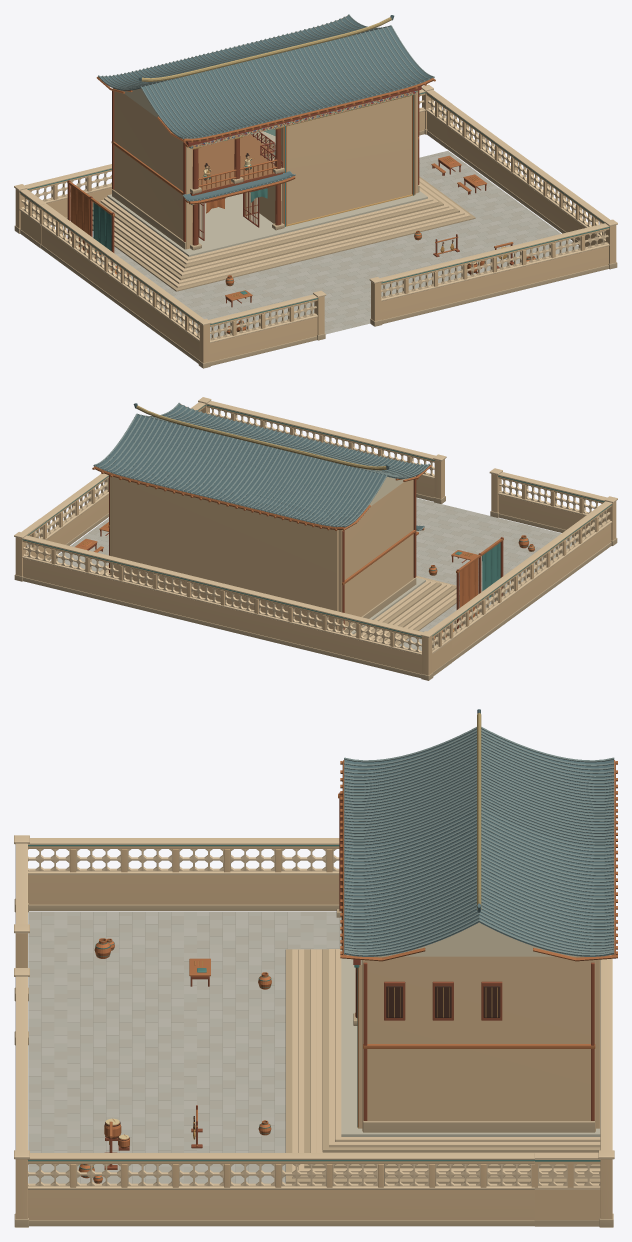
Rendered from music-pavilion.glb.
3 views of the same model, one above another, from view 1: azimuth 30°, elevation 25°; view 2: azimuth 150°, elevation 25°; view 3: azimuth 270°, elevation 25° (orthographic). The views are drawn at different scales.
Visible parts, largest first — view 1: architecture--plaster.001, court-paving--court-limestone-0, courtyard-enclosure--plaster.001, main-roof--tile.001, courtyard-enclosure--stone-light.001, main-roof--tile-edge.001, terraced-foundation--stone-light, terraced-foundation--stone, terraced-foundation--music-decor-stone, courtyard-enclosure--stone, music-interior-floor--music-decor-wood, porch--wood.001 (+17 smaller); view 2: architecture--plaster.001, courtyard-enclosure--plaster.001, courtyard-enclosure--stone-light.001, main-roof--tile.001, main-roof--tile-edge.001, court-paving--court-limestone-0, courtyard-enclosure--stone, terraced-foundation--stone-light, courtyard-enclosure--teal.001, main-roof--wood-light.001, main-roof--music-decor-ochre, terraced-foundation--stone (+5 smaller); view 3: court-paving--court-limestone-0, main-roof--tile-edge.001, architecture--plaster.001, courtyard-enclosure--plaster.001, main-roof--tile.001, courtyard-enclosure--stone-light.001, terraced-foundation--stone-light, terraced-foundation--stone, courtyard-enclosure--stone, court-paving--court-fine-joints, terraced-foundation--music-decor-stone, mural-frame--stone.001 (+9 smaller).
Part boxes in pixels (x1,y1,x2,y2): architecture--plaster.001: (113,88,417,249); court-paving--court-limestone-0: (93,151,578,338); courtyard-enclosure--plaster.001: (15,92,616,363); main-roof--tile.001: (99,15,432,138); courtyard-enclosure--stone-light.001: (14,84,617,343); main-roof--tile-edge.001: (98,14,434,139); terraced-foundation--stone-light: (92,178,470,287); terraced-foundation--stone: (92,176,475,291); terraced-foundation--music-decor-stone: (107,157,427,256); courtyard-enclosure--stone: (14,129,617,368); music-interior-floor--music-decor-wood: (192,134,275,190); porch--wood.001: (190,128,282,245); architecture--plaster.001: (110,476,415,631); courtyard-enclosure--plaster.001: (15,404,616,675); courtyard-enclosure--stone-light.001: (14,397,617,655); main-roof--tile.001: (95,403,429,526); main-roof--tile-edge.001: (93,402,430,527); court-paving--court-limestone-0: (57,498,575,650); courtyard-enclosure--stone: (14,493,617,680); terraced-foundation--stone-light: (100,566,459,643); courtyard-enclosure--teal.001: (22,404,612,637); main-roof--wood-light.001: (92,404,431,530); main-roof--music-decor-ochre: (136,405,386,470); terraced-foundation--stone: (99,564,459,645); court-paving--court-limestone-0: (28,912,341,1183); main-roof--tile-edge.001: (344,727,614,955); architecture--plaster.001: (358,956,599,1131); courtyard-enclosure--plaster.001: (15,846,612,1219); main-roof--tile.001: (344,709,613,956); courtyard-enclosure--stone-light.001: (14,835,614,1189); terraced-foundation--stone-light: (292,949,600,1178); terraced-foundation--stone: (285,949,600,1183); courtyard-enclosure--stone: (14,898,613,1227); court-paving--court-fine-joints: (28,912,339,1183); terraced-foundation--music-decor-stone: (341,949,600,1136); mural-frame--stone.001: (363,1121,595,1132).
Bounding box in the file's own units: 46.98 × 17.83 × 37.27.
35 materials, 1 textured.
